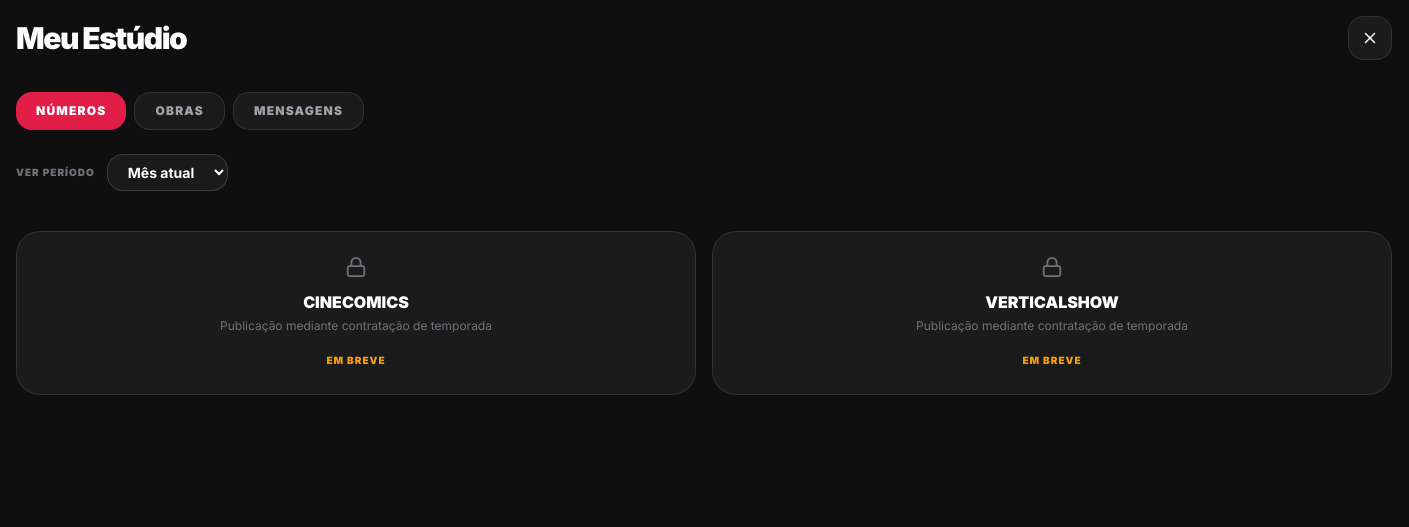
Scenario: PortalEstudio — aba Obras › lista vazia mostra estado vazio
Click the button "Obras": x=180, y=111 [134,92,225,130]
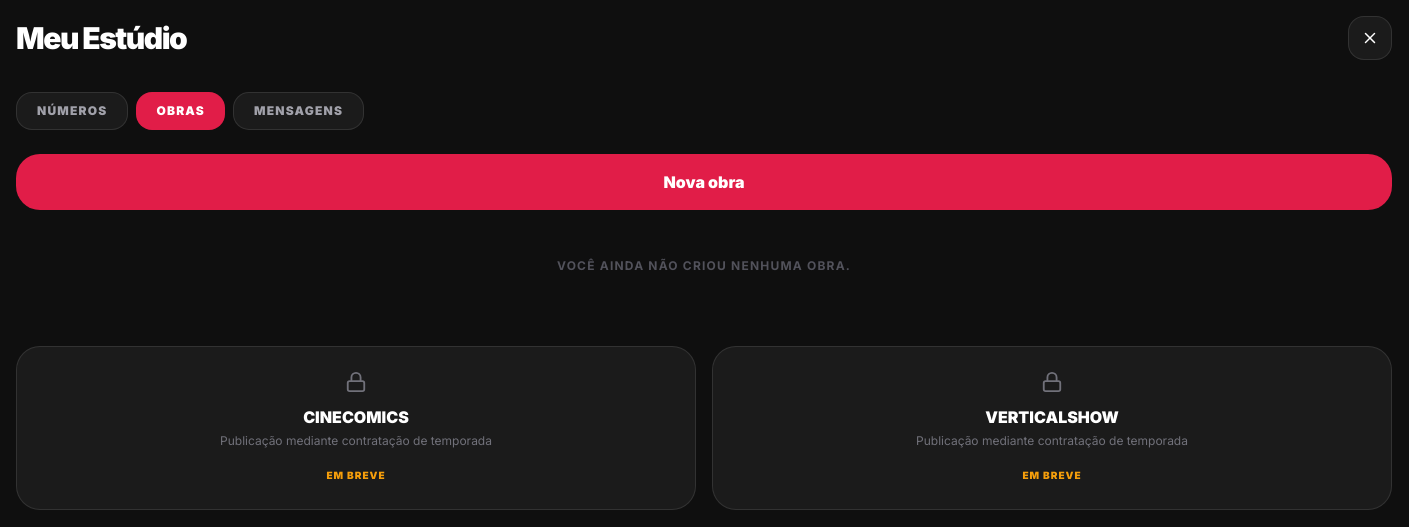
expect the text "Você ainda não criou nenhuma obra." is shown: met, box [557,258,851,273]
